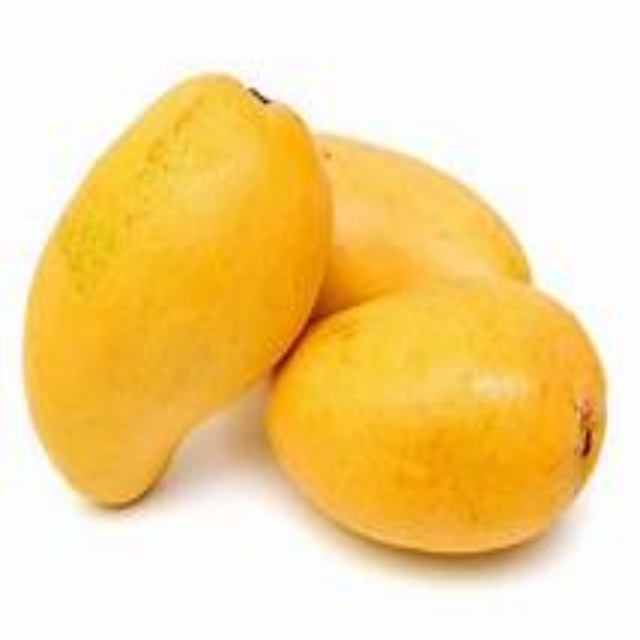mango: (26, 68, 323, 506), (270, 284, 604, 553), (299, 131, 538, 311)
